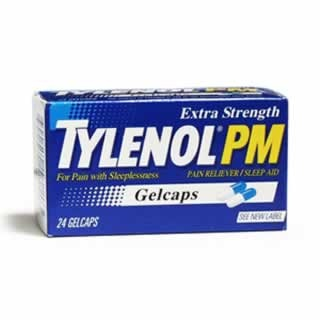grozi_60: (32, 84, 288, 238)
